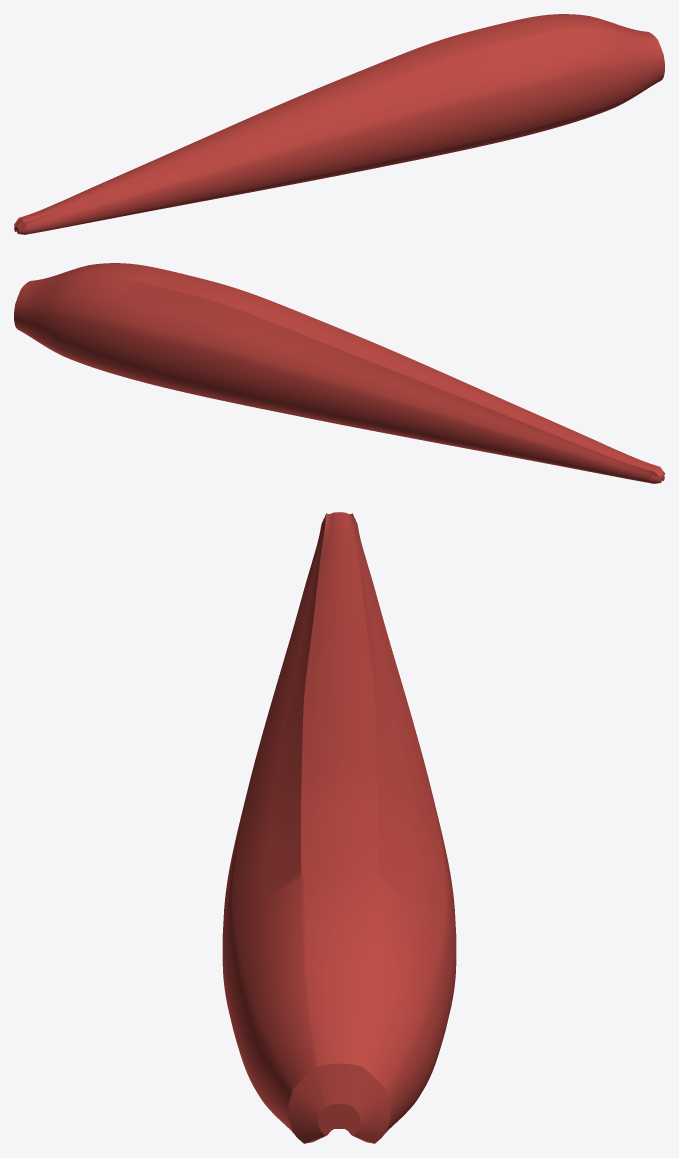
Rendered from chopper_3_lod1.glb.
3 renders of one model, top to bottom at view 1: azimuth 30°, elevation 25°; view 2: azimuth 150°, elevation 25°; view 3: azimuth 270°, elevation 25°, orthographic. The views are drawn at different scales.
Parts seen in each view (by area): view 1: chopper_3_lod1; view 2: chopper_3_lod1; view 3: chopper_3_lod1.
Part boxes in pixels (left/top/right/bottom): chopper_3_lod1: left=14, top=14, right=664, bottom=234; chopper_3_lod1: left=14, top=263, right=664, bottom=483; chopper_3_lod1: left=222, top=512, right=456, bottom=1143.
Bounding box in the file's own units: 1.06 × 0.1437 × 0.1681.
